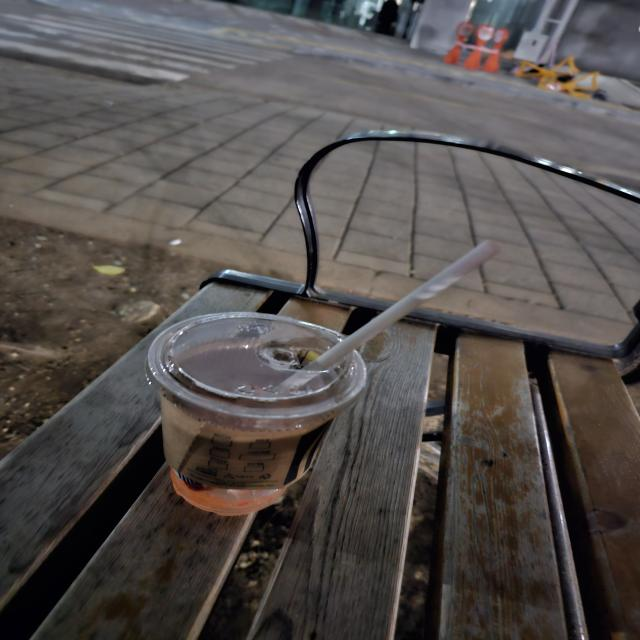cup: (139, 308, 373, 522)
